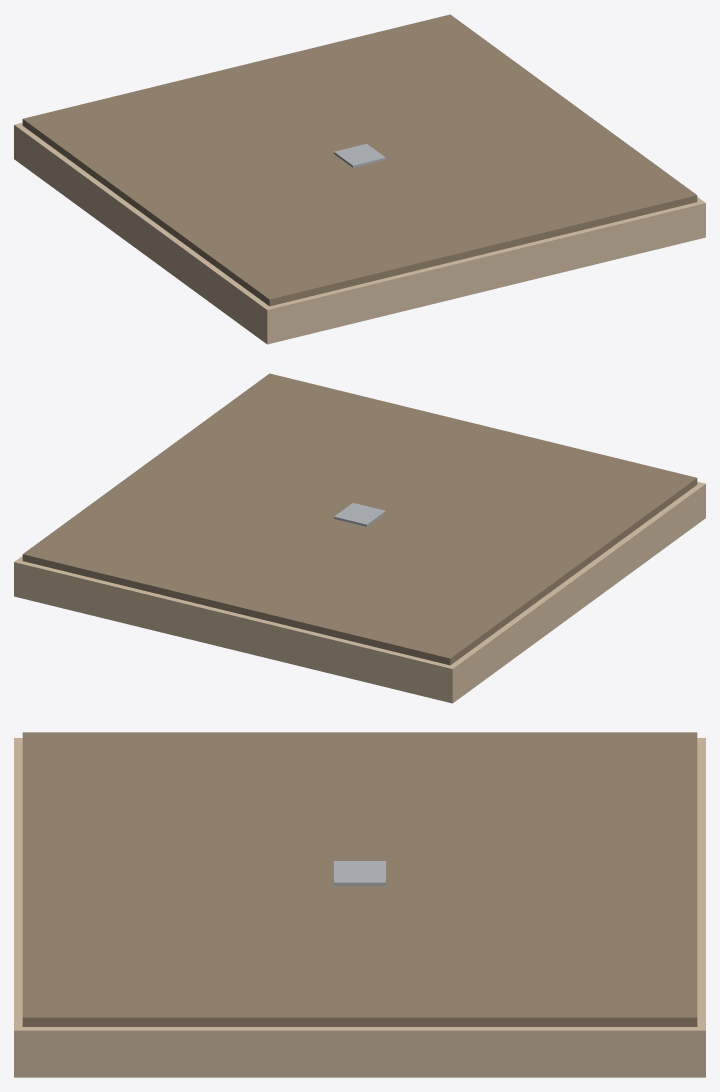
Rendered from city_roof_cap_4.glb.
3 renders of one model, top to bottom at view 1: azimuth 30°, elevation 25°; view 2: azimuth 150°, elevation 25°; view 3: azimuth 270°, elevation 25°, orthographic. The views are drawn at different scales.
Parts seen in each view (by area): view 1: CityRoofCap4_Ballast, CityRoofCap4_Slab, CityRoofCap4_Drain; view 2: CityRoofCap4_Ballast, CityRoofCap4_Slab, CityRoofCap4_Drain; view 3: CityRoofCap4_Ballast, CityRoofCap4_Slab, CityRoofCap4_Drain.
Boxes of the visible parts, box(x1,y1,x2,y2) form: CityRoofCap4_Ballast: box(22, 14, 697, 306); CityRoofCap4_Slab: box(14, 122, 705, 344); CityRoofCap4_Drain: box(334, 144, 385, 167); CityRoofCap4_Ballast: box(22, 373, 697, 665); CityRoofCap4_Slab: box(14, 481, 705, 703); CityRoofCap4_Drain: box(334, 503, 385, 526); CityRoofCap4_Ballast: box(22, 732, 697, 1026); CityRoofCap4_Slab: box(14, 738, 705, 1077); CityRoofCap4_Drain: box(334, 861, 385, 885).
Bounding box in the file's own units: 4 × 0.38 × 4.
